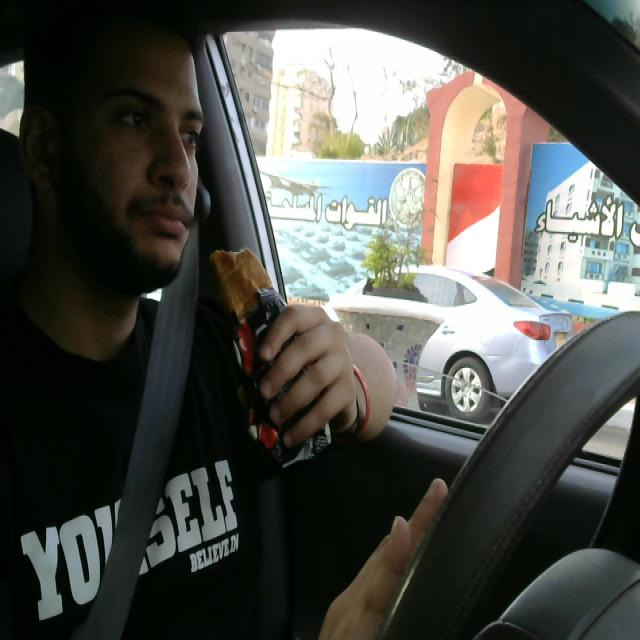eating: (205, 239, 341, 474)
